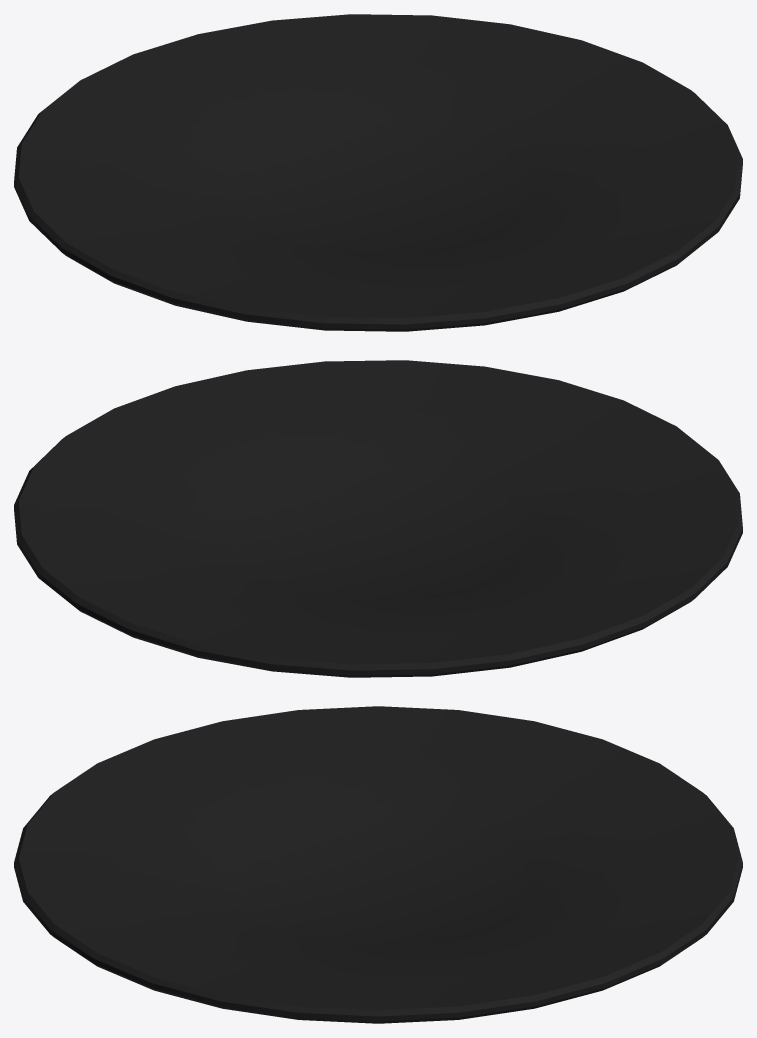
Rendered from saucer black.FBX.
The picture shows the model from 3 angles, top to bottom: view 1: azimuth 30°, elevation 25°; view 2: azimuth 150°, elevation 25°; view 3: azimuth 270°, elevation 25°; orthographic projection.
Visible parts, largest first — view 1: saucer black; view 2: saucer black; view 3: saucer black.
Boxes of the visible parts, x1,y1,x2,y2 form: saucer black: (14,14,742,331); saucer black: (14,360,742,677); saucer black: (14,706,742,1023).
Size of the model in its own units: 5.99 by 5.99 by 0.3661.
1 material, 1 textured.
